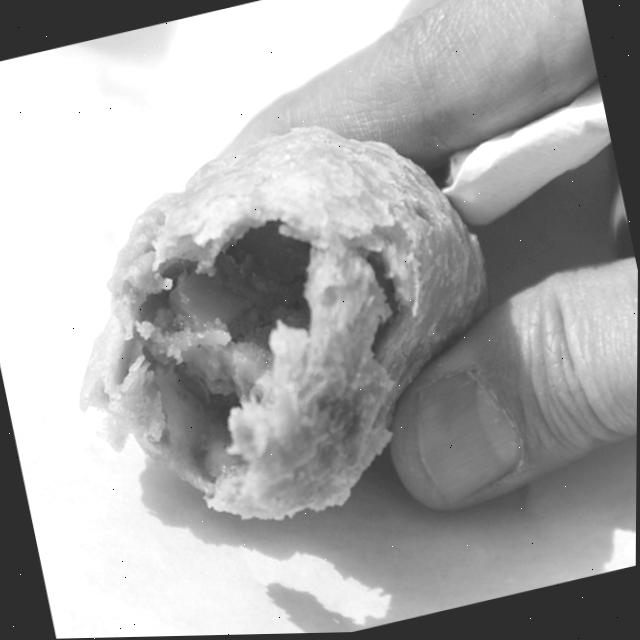炸货点心: (30, 59, 543, 575)
